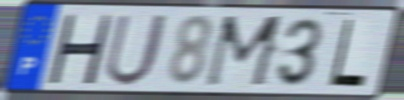3: (273, 16, 326, 89)
8: (165, 13, 216, 89)
H: (45, 12, 115, 87)
L: (327, 17, 368, 90)
M: (201, 14, 288, 90)
U: (102, 12, 172, 89)
